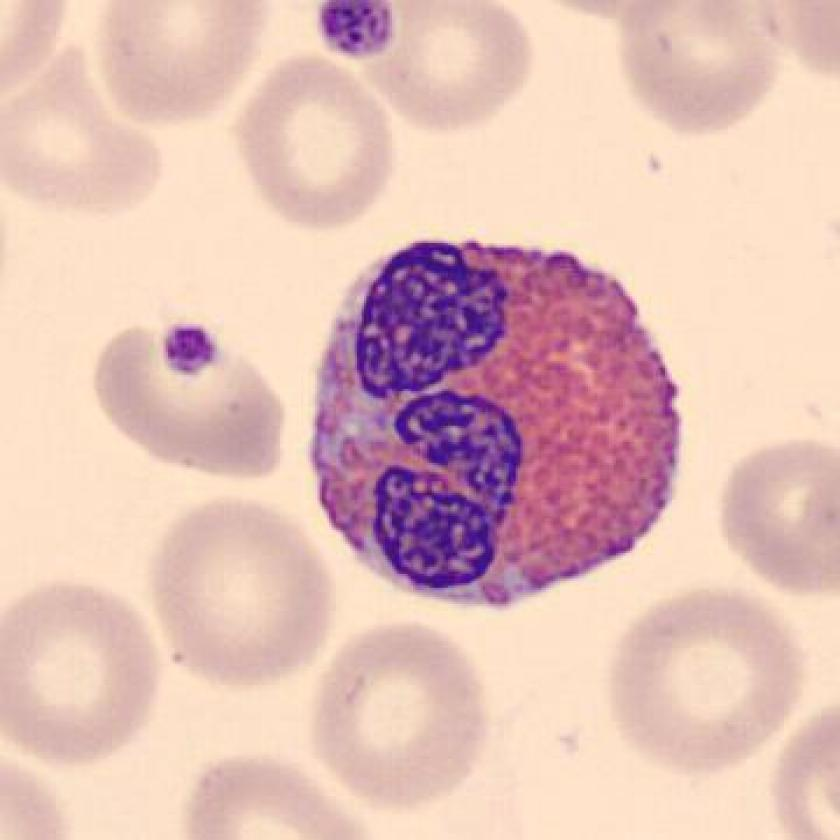eosinophil: (293, 223, 692, 619)
